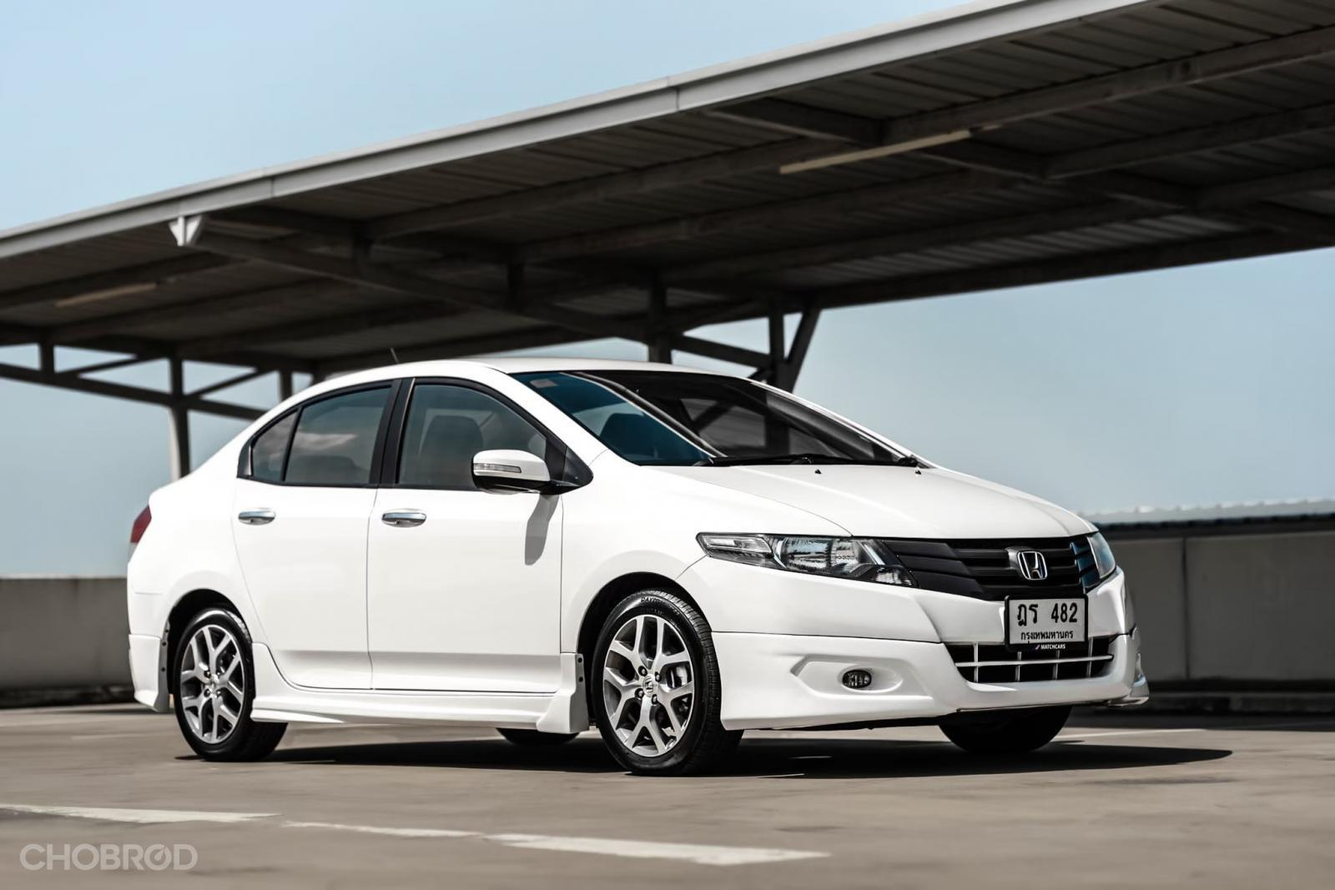license-plate: (992, 584, 1092, 660)
